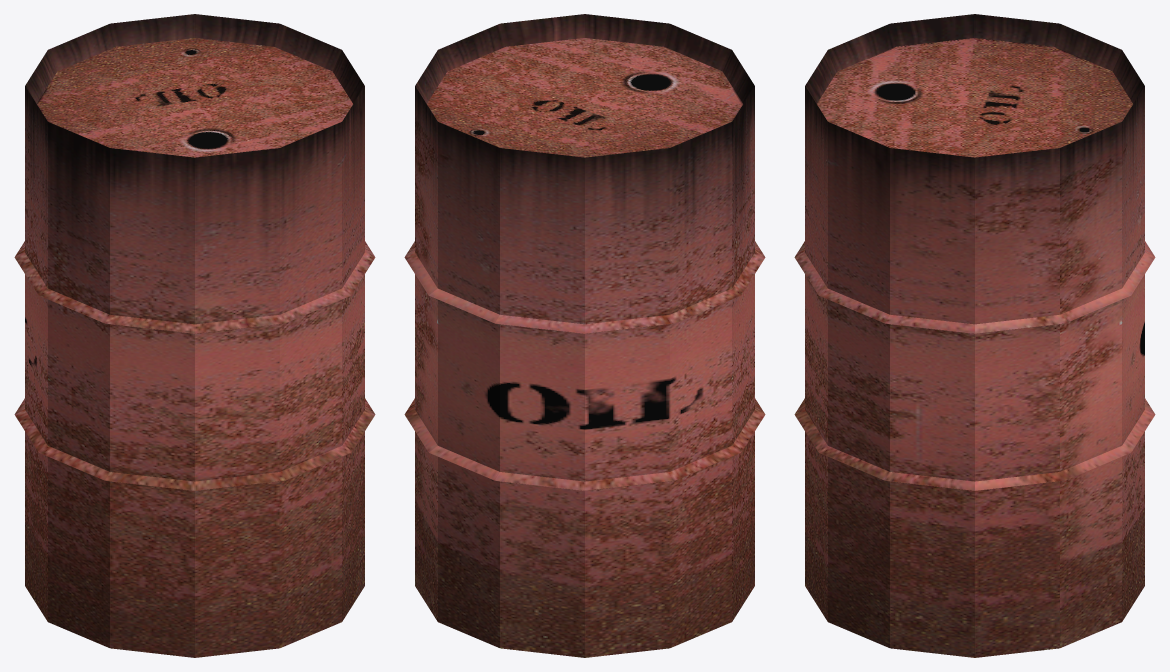
File: barrel5.fbx
3 views of the same model, side by side, from view 1: azimuth 30°, elevation 25°; view 2: azimuth 150°, elevation 25°; view 3: azimuth 270°, elevation 25° (orthographic).
Visible parts, largest first — view 1: barrel5_Layer1; view 2: barrel5_Layer1; view 3: barrel5_Layer1.
Part boxes in pixels (x1=…): barrel5_Layer1: x1=14, y1=14, x2=375, y2=657; barrel5_Layer1: x1=404, y1=14, x2=765, y2=657; barrel5_Layer1: x1=794, y1=14, x2=1155, y2=657.
Size of the model in its own units: 34 by 52 by 34.
1 material, 1 textured.
